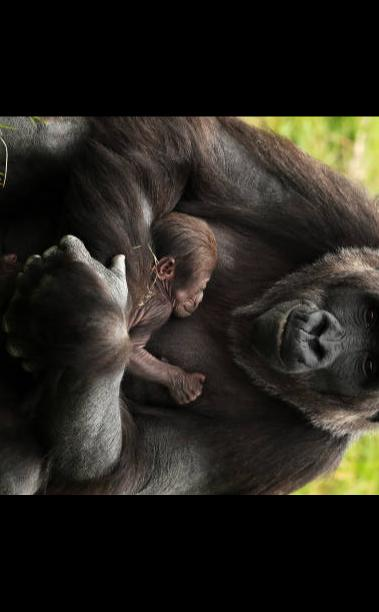gorille_Autres: (0, 128, 379, 495)
